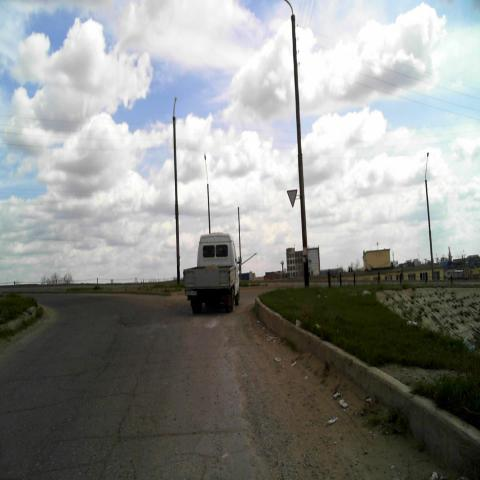2_4: (286, 188, 298, 210)
